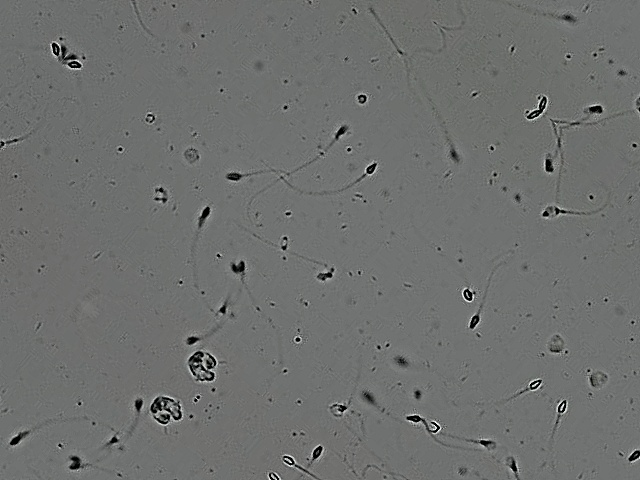sperm: (183, 44, 294, 170), (140, 201, 260, 316), (177, 204, 289, 308), (232, 75, 330, 174), (197, 164, 291, 250), (353, 43, 439, 125), (122, 163, 202, 246), (504, 129, 578, 205), (392, 372, 462, 440), (422, 223, 486, 294), (192, 110, 256, 174), (357, 311, 423, 372), (388, 215, 452, 274), (328, 354, 392, 412), (310, 430, 406, 464), (300, 329, 352, 387), (510, 105, 556, 153), (483, 348, 523, 390), (255, 436, 303, 466), (166, 298, 200, 334), (389, 394, 418, 422), (290, 431, 314, 458), (47, 41, 71, 65), (0, 102, 14, 142), (202, 281, 224, 306), (260, 0, 328, 8), (336, 468, 404, 476), (513, 96, 533, 116), (54, 40, 70, 57), (294, 217, 308, 231), (308, 474, 336, 478)
